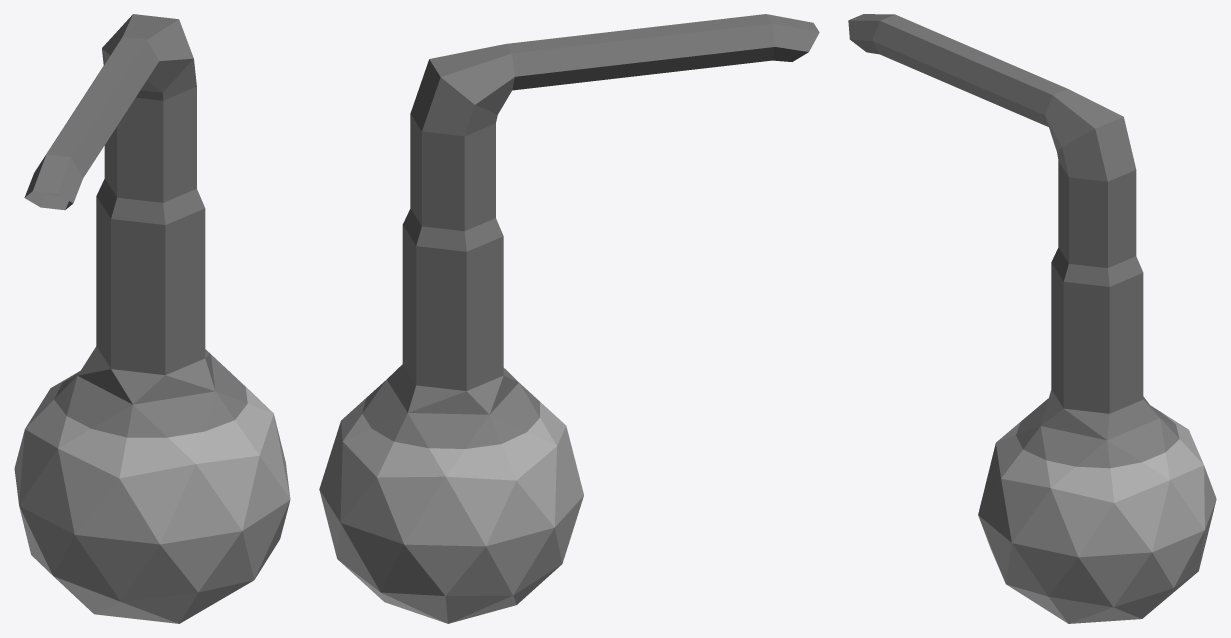
Rendered from alchemist_aparatus_749x29.gltf.
3 views of the same model, side by side, from view 1: azimuth 30°, elevation 25°; view 2: azimuth 150°, elevation 25°; view 3: azimuth 270°, elevation 25° (orthographic). The views are drawn at different scales.
Visible parts, largest first — view 1: alchemist_aparatus_749x29; view 2: alchemist_aparatus_749x29; view 3: alchemist_aparatus_749x29.
Part boxes in pixels (x1=…): alchemist_aparatus_749x29: x1=14, y1=14, x2=290, y2=623; alchemist_aparatus_749x29: x1=319, y1=14, x2=819, y2=623; alchemist_aparatus_749x29: x1=848, y1=14, x2=1216, y2=623.
Size of the model in its own units: 0.803 by 1.21 by 0.7967.
Materials: 2 (2 with a texture image).
